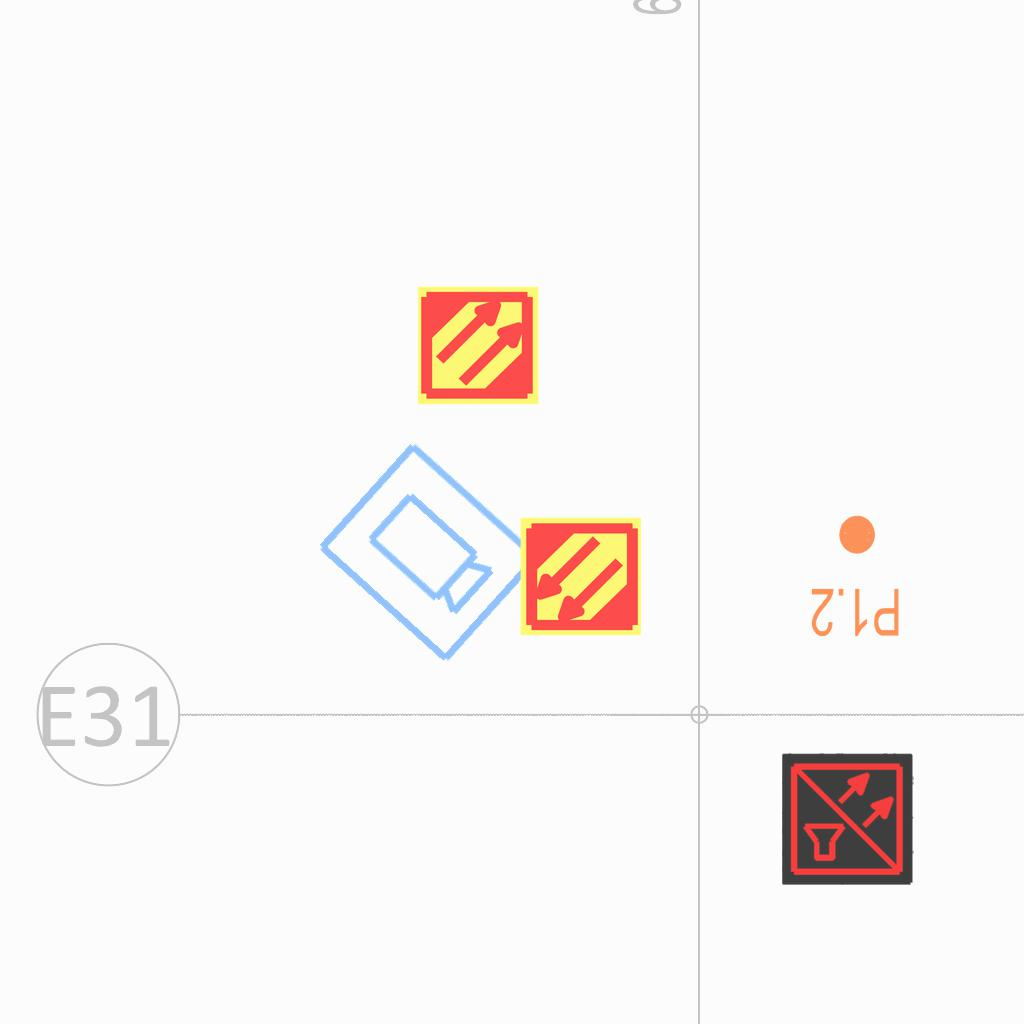ASR_Ansaugrauchmelder: (416, 283, 541, 408), (518, 514, 643, 639)
Downlight_LED_Einbauleuchten_Flur: (809, 512, 902, 640)
KFO_Kamera_mit_Festobjektiv: (308, 434, 548, 672)
OKW_Multisensormelder_(Kombination_optischer_Rauch-Kahlenmonoxid_Waerme-Melder): (782, 753, 914, 885)
